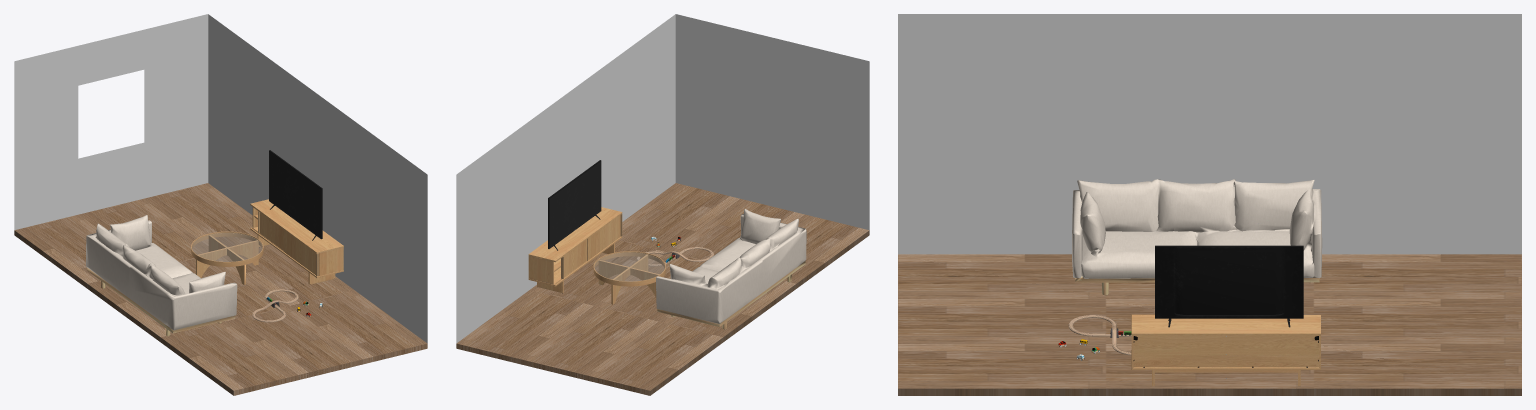
The model's file is livingroom.glb.
The picture shows the model from 3 angles, left to right: view 1: azimuth 30°, elevation 25°; view 2: azimuth 150°, elevation 25°; view 3: azimuth 270°, elevation 25°; orthographic projection. The views are drawn at different scales.
Visible parts, largest first — view 1: SM_walls, SM_ground, SM_sofa, SM_meuble, tv, SM_table, SM_train_track; view 2: SM_walls, SM_ground, SM_sofa, SM_meuble, tv, SM_table, SM_train_track; view 3: SM_walls, SM_ground, SM_sofa, tv, SM_meuble, SM_train_track.
Boxes of the visible parts, <box> form: SM_walls: <box>14,14,427,343</box>; SM_ground: <box>14,183,427,395</box>; SM_sofa: <box>86,215,237,336</box>; SM_meuble: <box>250,199,343,284</box>; tv: <box>269,150,322,240</box>; SM_table: <box>191,231,263,284</box>; SM_train_track: <box>252,289,298,322</box>; SM_walls: <box>456,14,869,343</box>; SM_ground: <box>456,183,869,395</box>; SM_sofa: <box>656,209,806,329</box>; SM_meuble: <box>528,207,622,293</box>; tv: <box>548,160,601,250</box>; SM_table: <box>593,251,665,304</box>; SM_train_track: <box>637,247,713,266</box>; SM_walls: <box>898,14,1521,254</box>; SM_ground: <box>898,254,1521,395</box>; SM_sofa: <box>1072,179,1322,295</box>; tv: <box>1155,245,1303,327</box>; SM_meuble: <box>1131,314,1320,386</box>; SM_train_track: <box>1068,315,1131,355</box>.
Size of the model in its own units: 30 by 25.76 by 58.83.
Materials: 13 (13 with a texture image).
